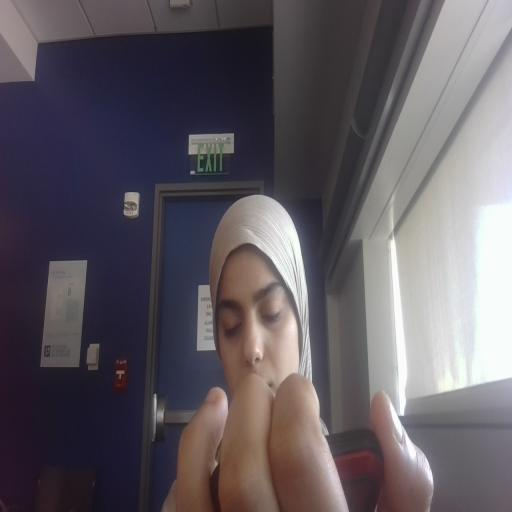phone: (188, 422, 472, 512)
